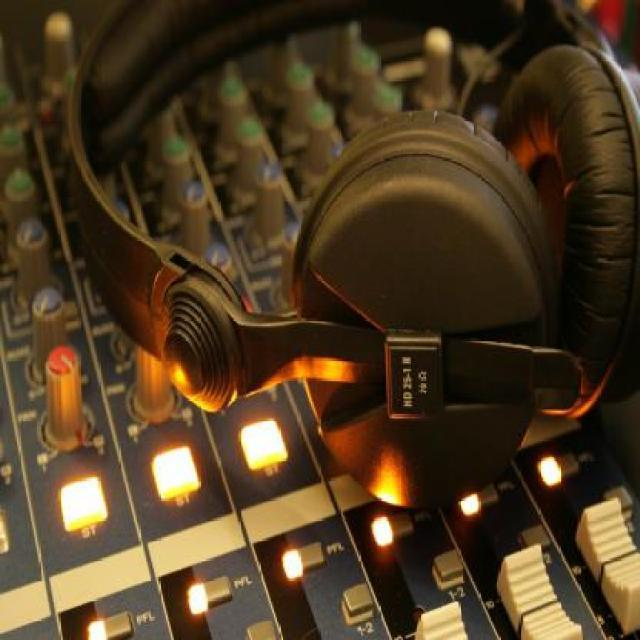earphone: (65, 0, 633, 524)
